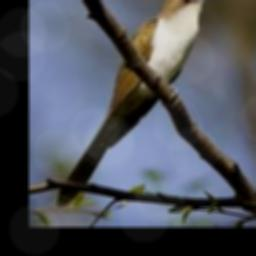Cuckoo: (56, 0, 220, 205)
